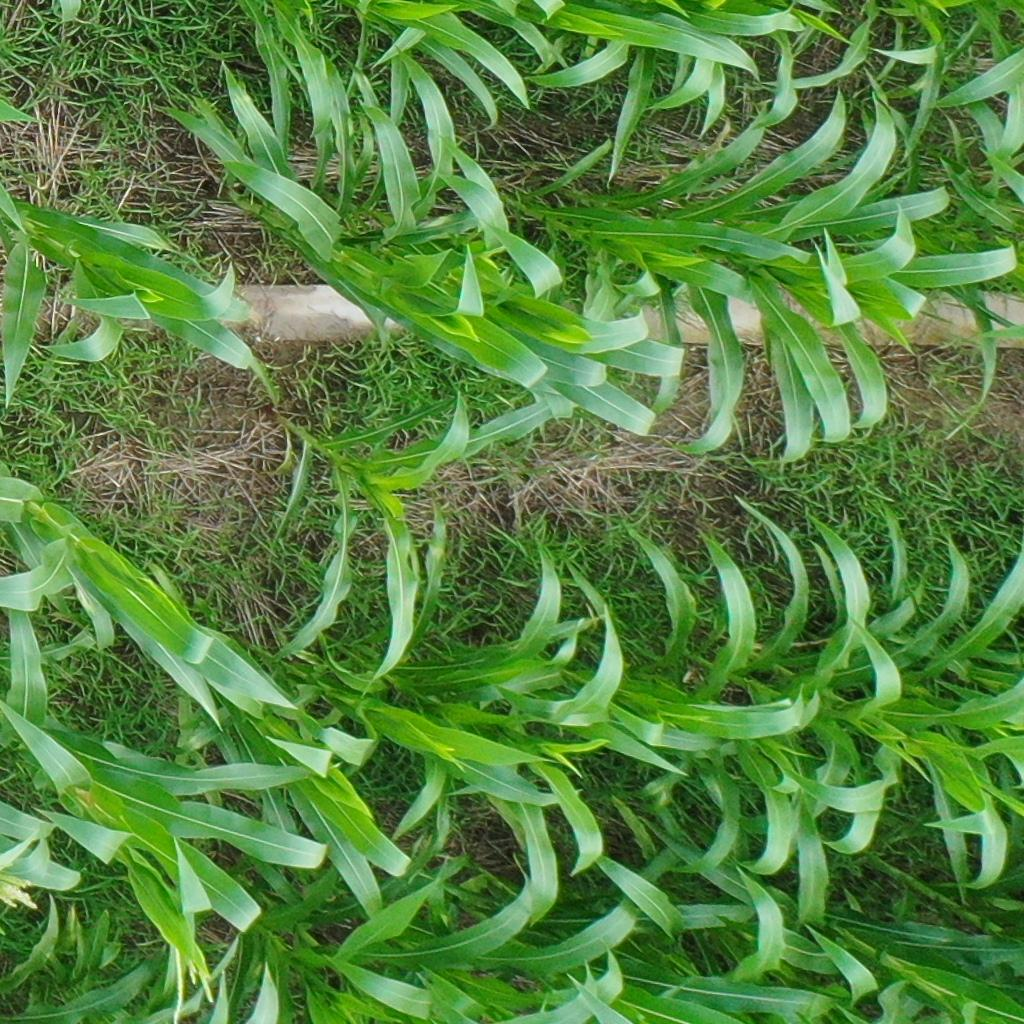Tassel: (159, 929, 220, 1024), (1, 869, 45, 923)
